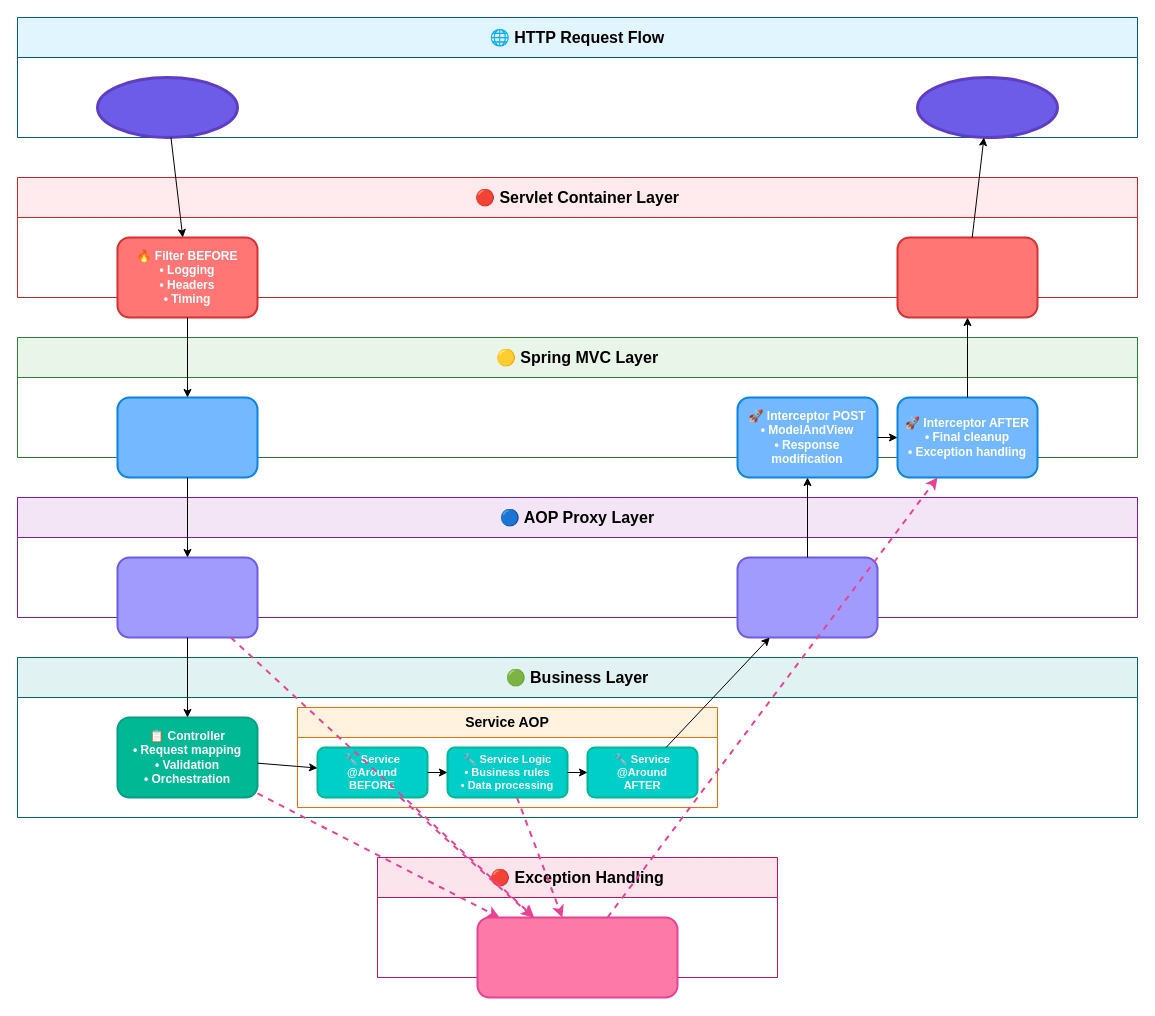
This 1155x1016 diagram has some shape labels left out. Here are the shapes that lost their labels. From the top down, the centre of each, then its label:
[167,107]: Client HTTP Request
[987,107]: Client HTTP Response
[967,277]: 🔥 Filter AFTER • Response logging • Cleanup • Duration
[187,437]: 🚀 Interceptor PRE • Authentication • Authorization • Request setup
[187,597]: 🎯 @Around BEFORE 🎯 @Before Advice
[807,597]: 🎯 @Around AFTER 🎯 @After Advice 🎯 @AfterReturning
[577,957]: ❌ GlobalExceptionHandler • Error mapping • Error responses
